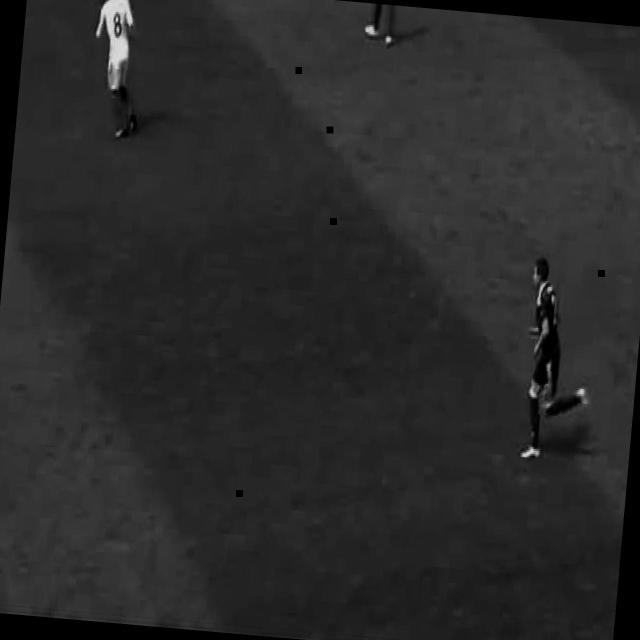player-white: (513, 258, 599, 464), (86, 0, 147, 138), (354, 2, 398, 46)
